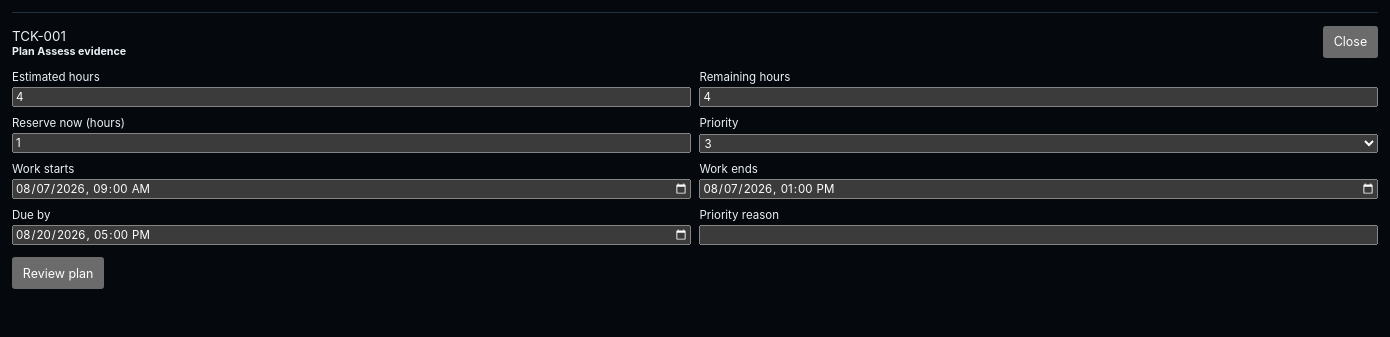
Scenario: edits every planning field and reports a rejected preview safely
Replace the text in the number field labelled "Estimated hours" with "6" at (351, 97), box [12,87,691,107]
Replace the text in the number field labelled "Remaining hours" with "5" at (1039, 97), box [699,87,1378,107]
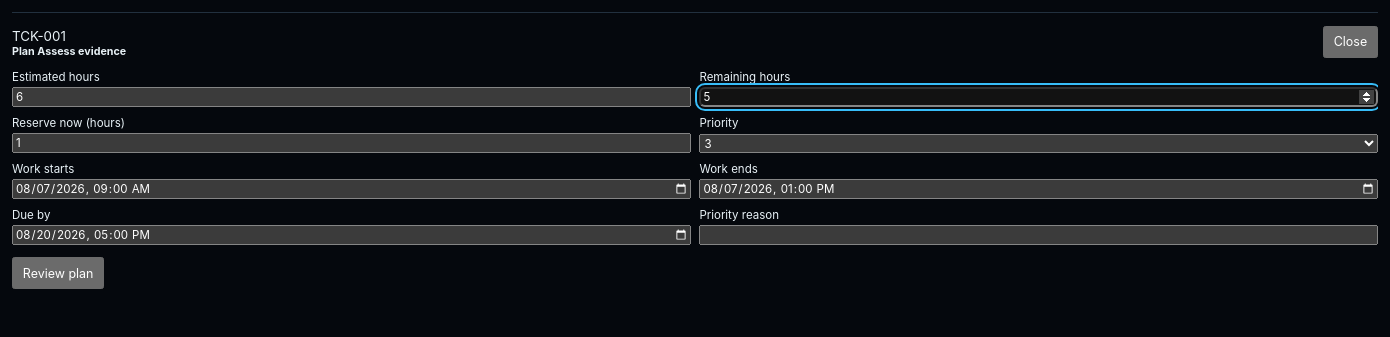
Replace the text in the number field labelled "Reserve now (hours)" with "2" at (351, 143), box [12,133,691,153]
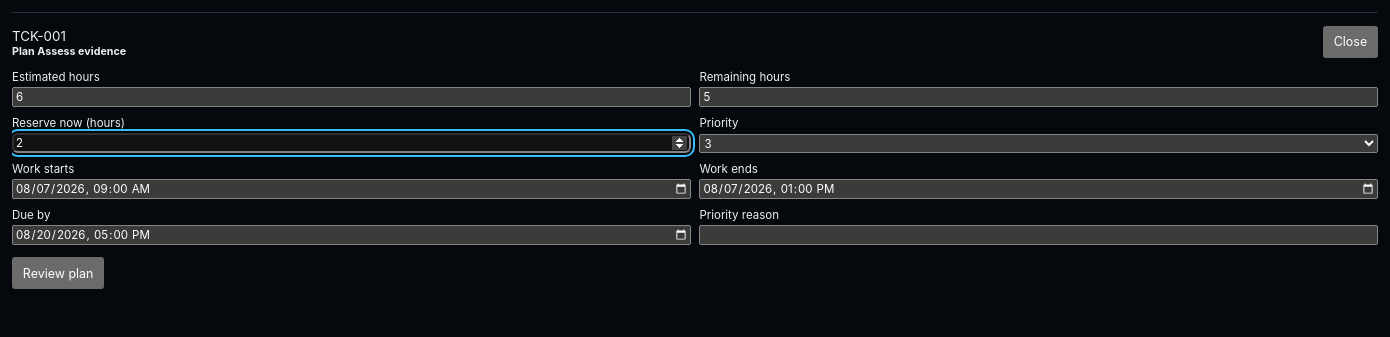
Select "4" in the dropdown labelled "Priority" at (1039, 144), box [699,134,1378,153]
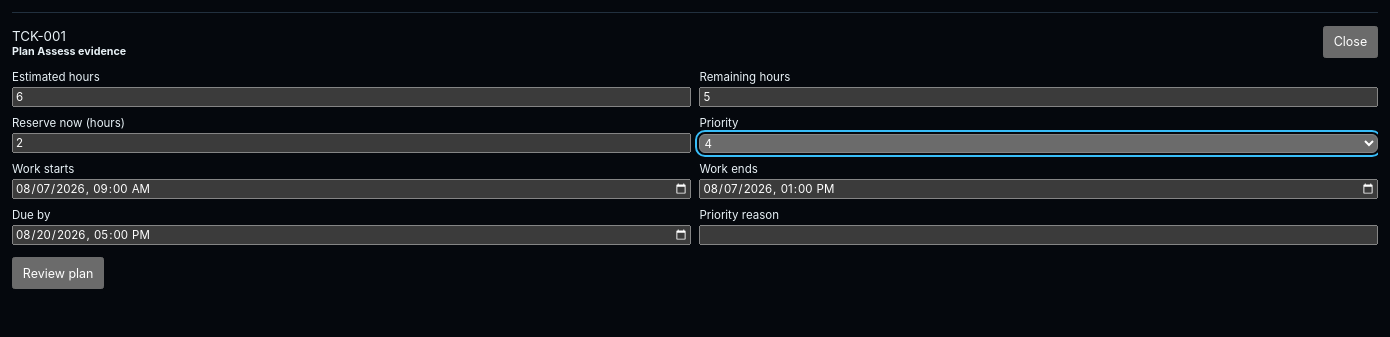
Type "Urgent." into the field labelled "Priority reason" at (1039, 235), box [699,225,1378,245]
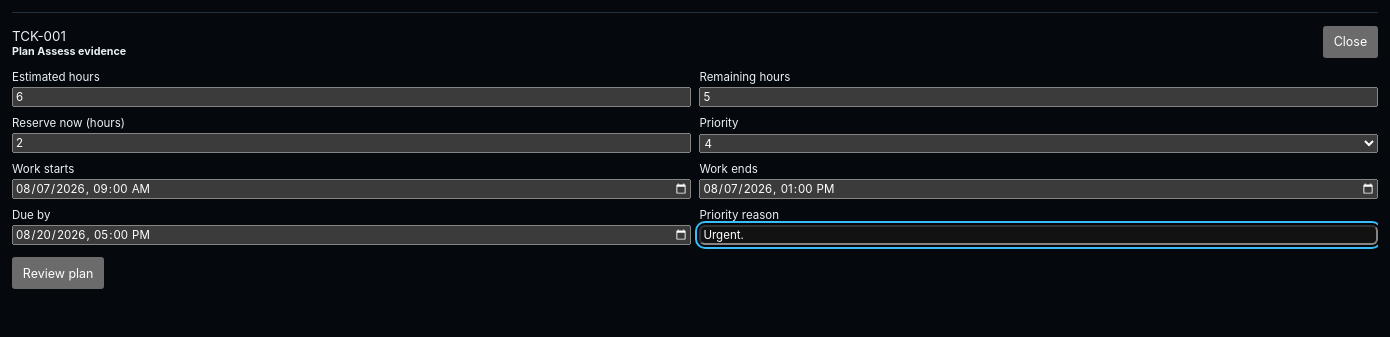
Replace the text in the field showing "T" with "2026-08-18T09:00" at (351, 189), box [12,179,691,199]
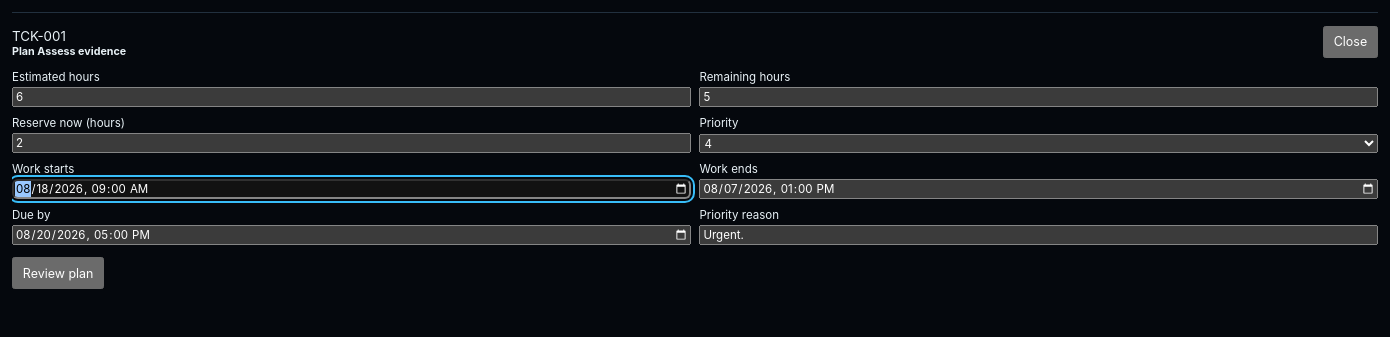
Click the button "Review plan" at (58, 273), box [12,257,104,289]
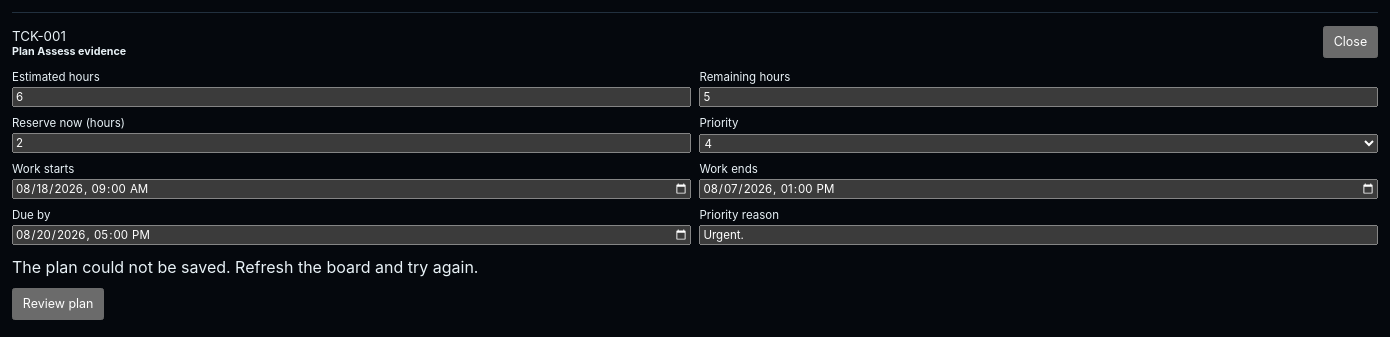
Expected: the text "The plan could not be saved. Refresh the board and try again." is shown, [12,257,478,277]
